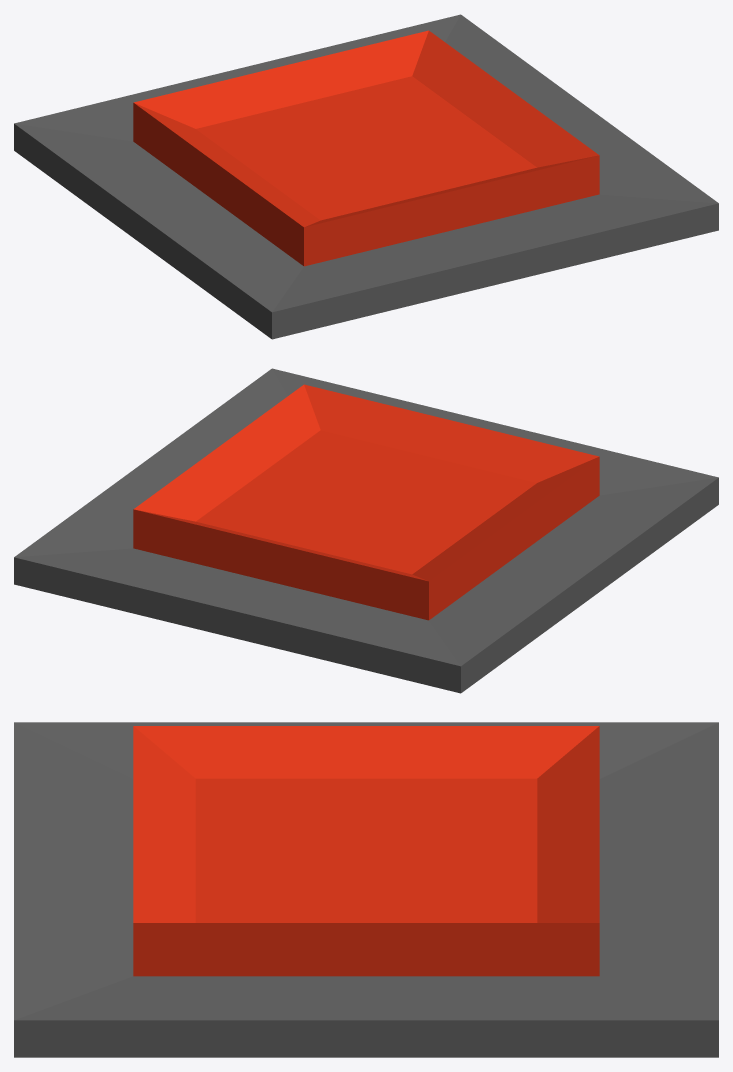
The model's file is botton.fbx.
The picture shows the model from 3 angles, top to bottom: view 1: azimuth 30°, elevation 25°; view 2: azimuth 150°, elevation 25°; view 3: azimuth 270°, elevation 25°; orthographic projection. The views are drawn at different scales.
Visible parts, largest first — view 1: Cube.003; view 2: Cube.003; view 3: Cube.003.
Boxes of the visible parts, x1=… form: Cube.003: x1=14, y1=14, x2=718, y2=339; Cube.003: x1=14, y1=368, x2=718, y2=693; Cube.003: x1=14, y1=722, x2=718, y2=1057.
Size of the model in its own units: 92.7 by 12.21 by 92.7.
